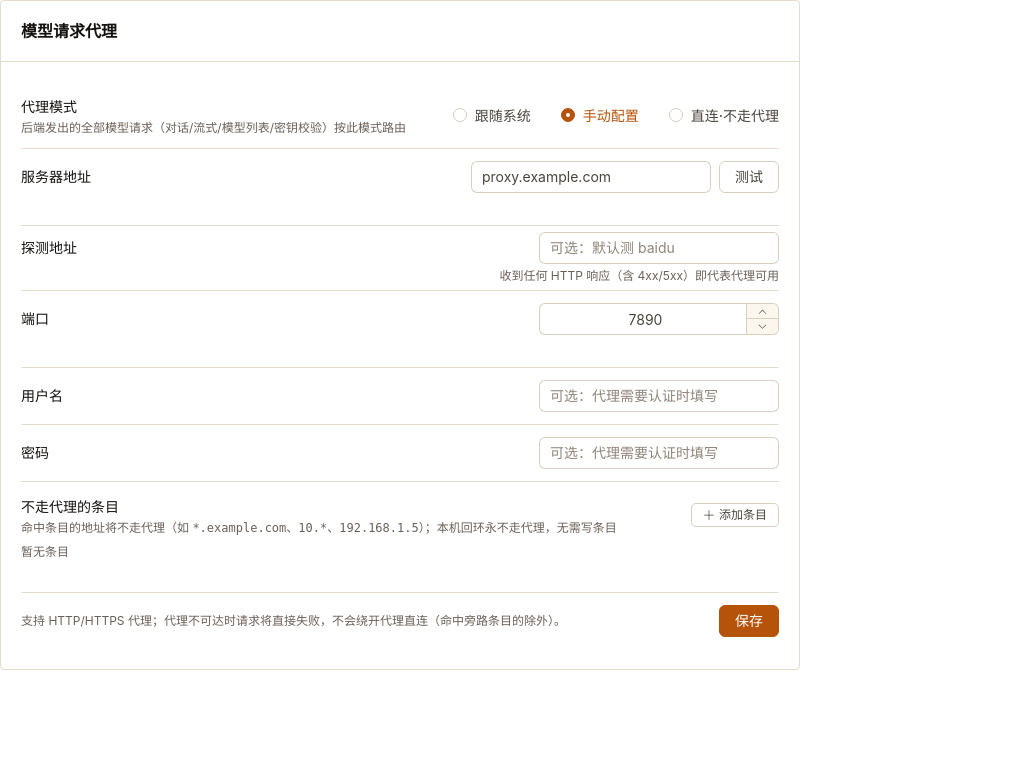
NetworkPanel › 测试失败：红色文案透出错误原文
Click the button with test id "proxy-test-btn".
click(749, 177)  # box [719,161,779,193]
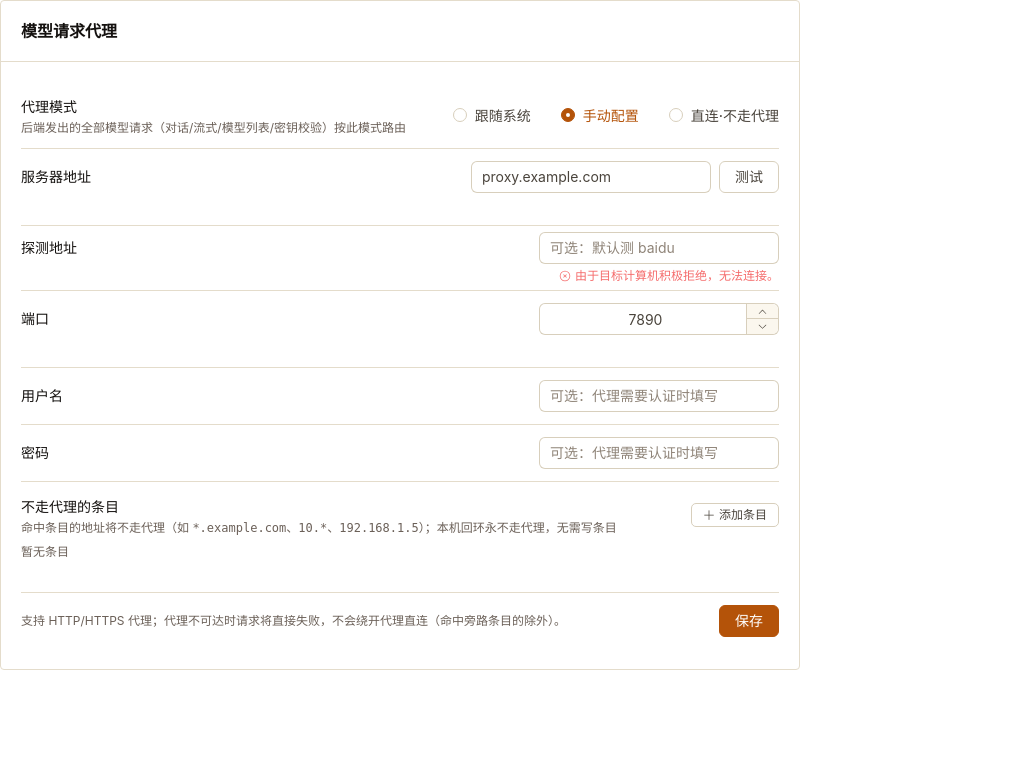
Result: the element with test id "proxy-test-feedback" shows "积极拒绝" at [575,268,779,283]
